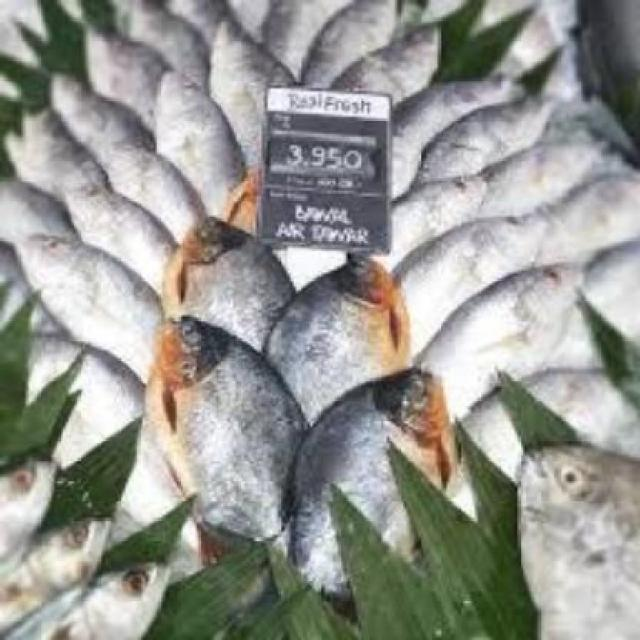ikan-pacu: (290, 360, 452, 591), (152, 306, 294, 546), (264, 254, 416, 421), (150, 210, 292, 344)
